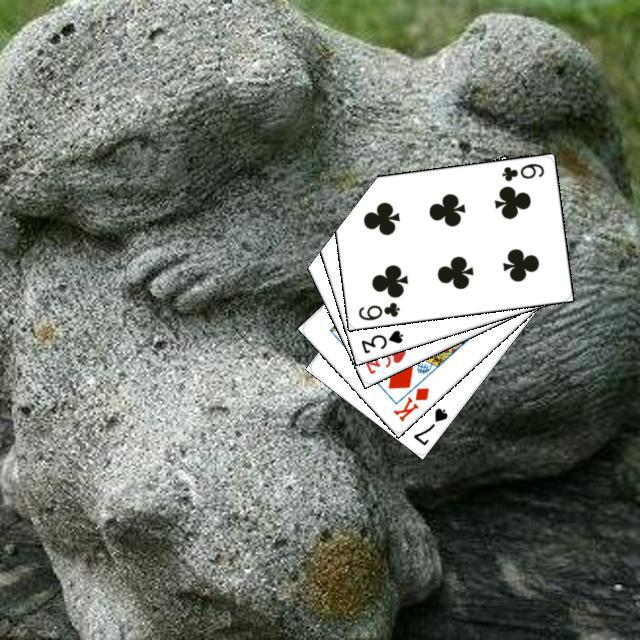3h: (360, 343, 408, 376)
3s: (356, 325, 405, 355)
6c: (497, 158, 546, 183), (353, 297, 401, 322)
7s: (408, 403, 450, 447)
Kd: (388, 382, 431, 423)
